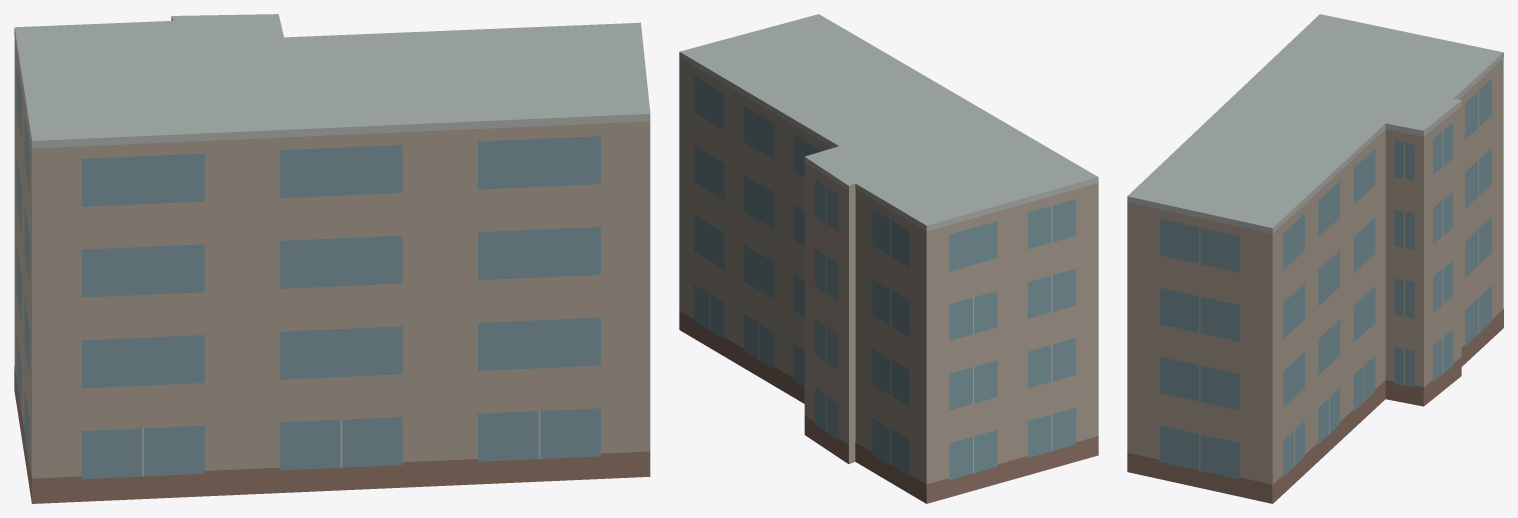
File: survey-upis-32961535.glb
3 views of the same model, side by side, from view 1: azimuth 30°, elevation 25°; view 2: azimuth 150°, elevation 25°; view 3: azimuth 270°, elevation 25° (orthographic). The views are drawn at different scales.
Visible parts, largest first — view 1: survey-upis-32961535.tmp; view 2: survey-upis-32961535.tmp; view 3: survey-upis-32961535.tmp.
Boxes of the visible parts, left/top/right/bottom form: survey-upis-32961535.tmp: left=14, top=14, right=650, bottom=503; survey-upis-32961535.tmp: left=679, top=14, right=1098, bottom=503; survey-upis-32961535.tmp: left=1127, top=14, right=1503, bottom=503.
Size of the model in its own units: 19.51 by 11.7 by 14.49.
